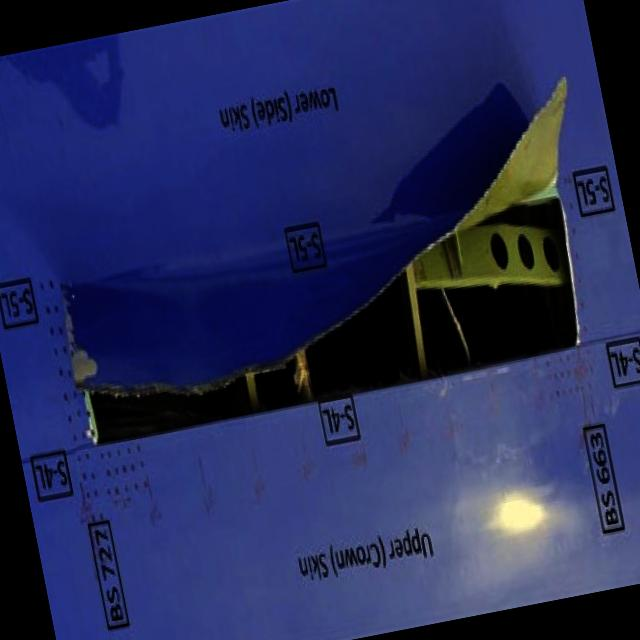crack: (34, 64, 623, 446)
